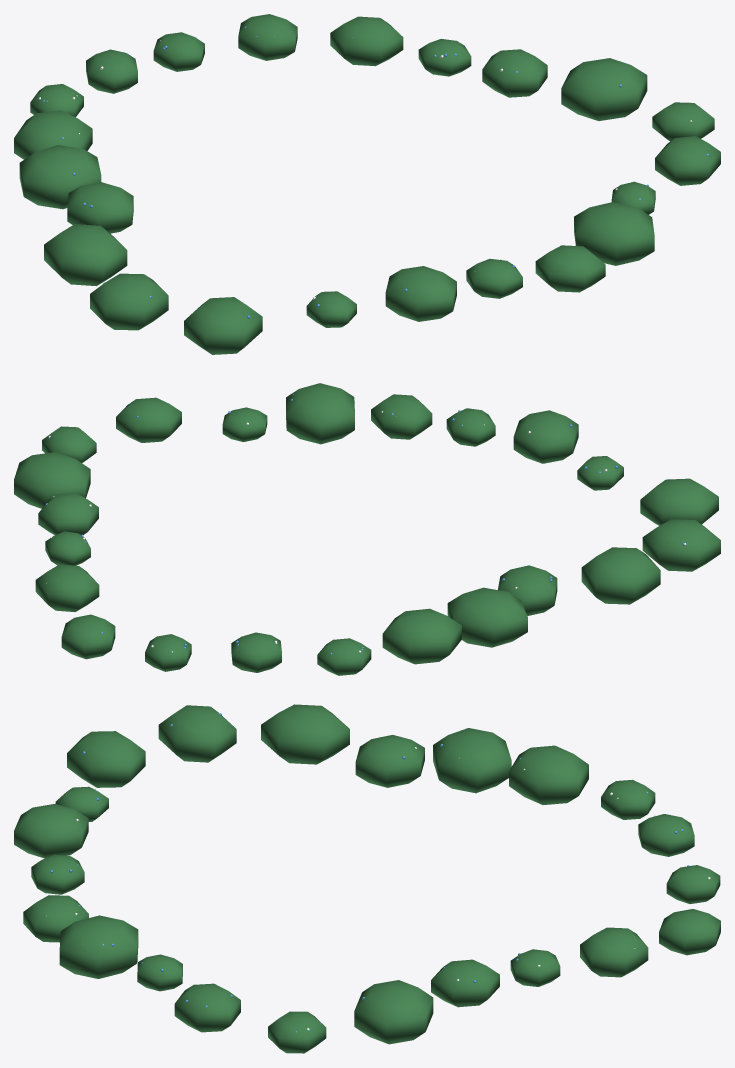
The model's file is garden-shrubs.glb.
3 renders of one model, top to bottom at view 1: azimuth 30°, elevation 25°; view 2: azimuth 150°, elevation 25°; view 3: azimuth 270°, elevation 25°, orthographic. The views are drawn at different scales.
Visible parts, largest first — view 1: GardenShrubs_shrubGreen; view 2: GardenShrubs_shrubGreen; view 3: GardenShrubs_shrubGreen.
Part boxes in pixels (<box>): GardenShrubs_shrubGreen: <box>14,14,720,354</box>; GardenShrubs_shrubGreen: <box>14,383,720,675</box>; GardenShrubs_shrubGreen: <box>14,704,720,1053</box>.
Size of the model in its own units: 18.39 by 1.66 by 17.13.
